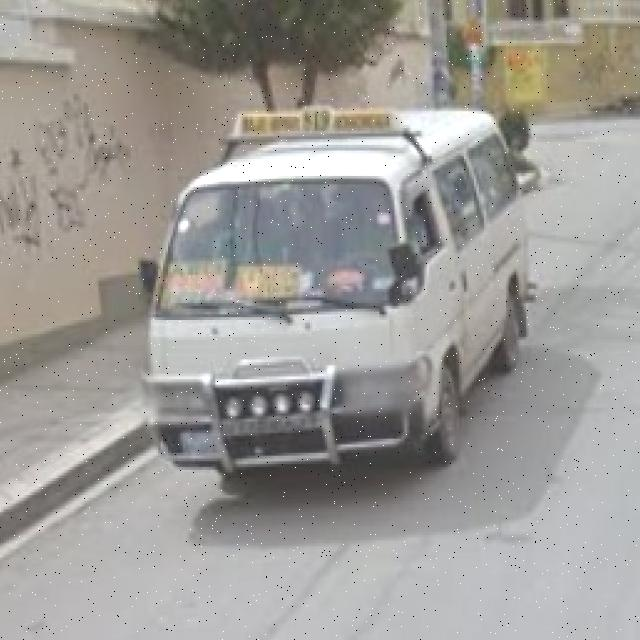car: (144, 116, 526, 477)
